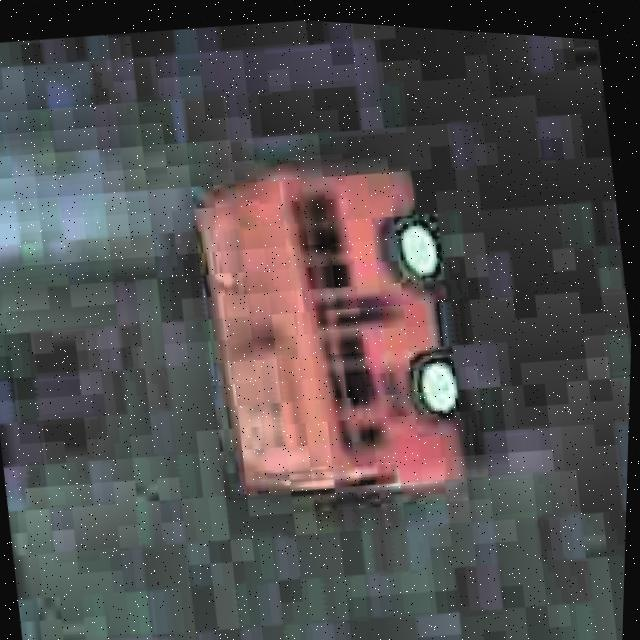bus: (175, 137, 496, 534)
